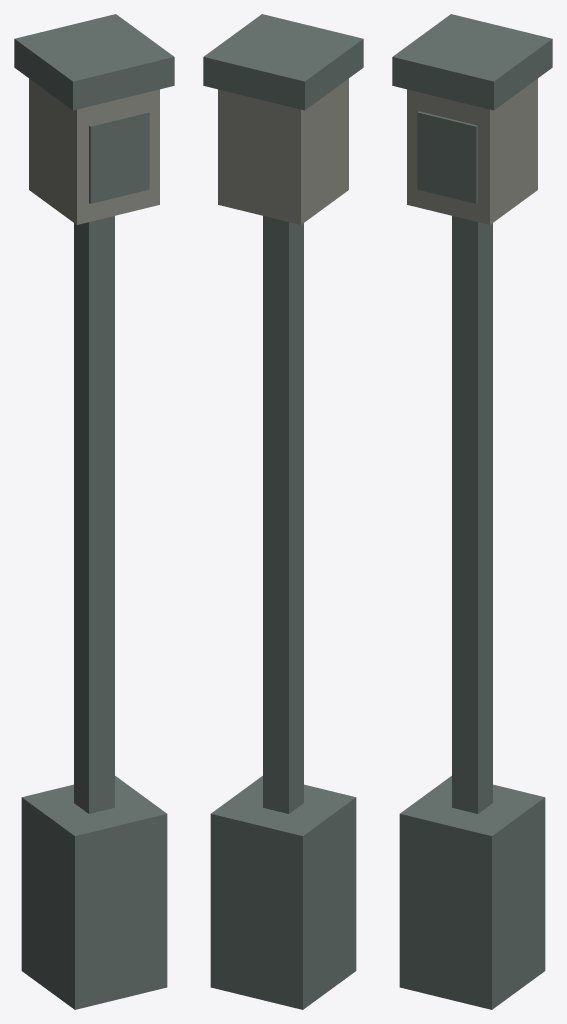
The model's file is SM_Farola_v0_LOD0.fbx.
The picture shows the model from 3 angles, left to right: view 1: azimuth 30°, elevation 25°; view 2: azimuth 150°, elevation 25°; view 3: azimuth 330°, elevation 25°; orthographic projection.
Visible parts, largest first — view 1: SM_urbano_v5_LOD0; view 2: SM_urbano_v5_LOD0; view 3: SM_urbano_v5_LOD0.
Part boxes in pixels (x1=…): SM_urbano_v5_LOD0: x1=14, y1=14, x2=174, y2=1009; SM_urbano_v5_LOD0: x1=203, y1=14, x2=363, y2=1009; SM_urbano_v5_LOD0: x1=392, y1=14, x2=552, y2=1009.
Bounding box in the file's own units: 0.55 × 4.82 × 0.55.
